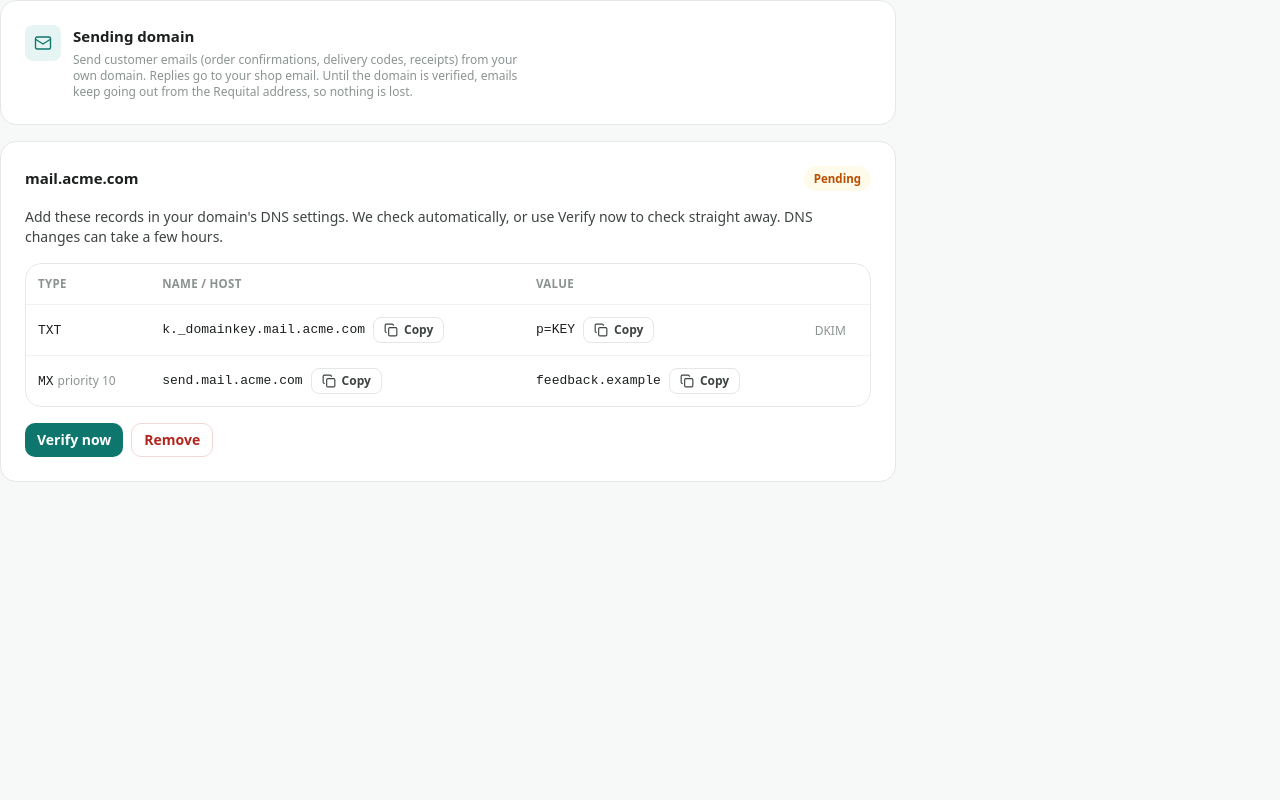
Test: Sending domain settings page › verify now reloads and removal returns to the empty form
Click the button "Verify now": (74, 440) left=25, top=423, right=123, bottom=457
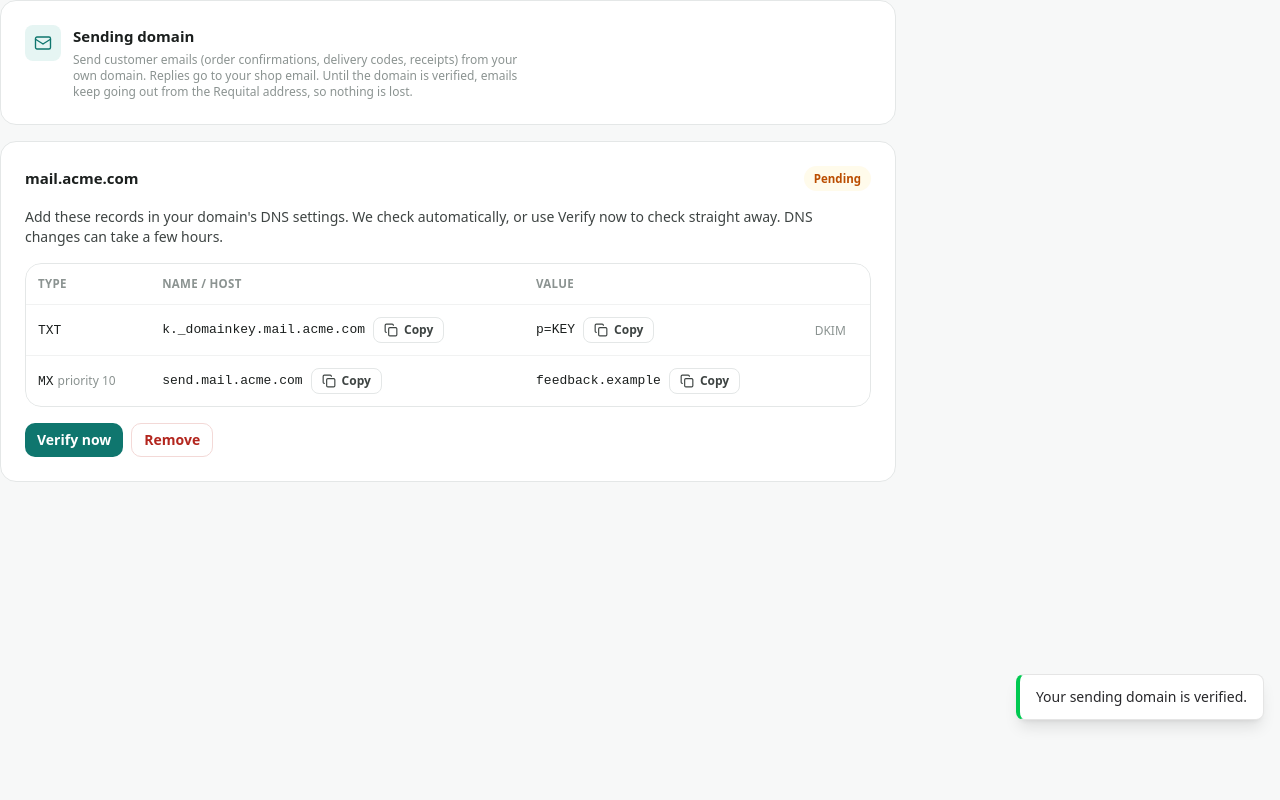
Click the button "Remove": (172, 440) left=131, top=423, right=213, bottom=457
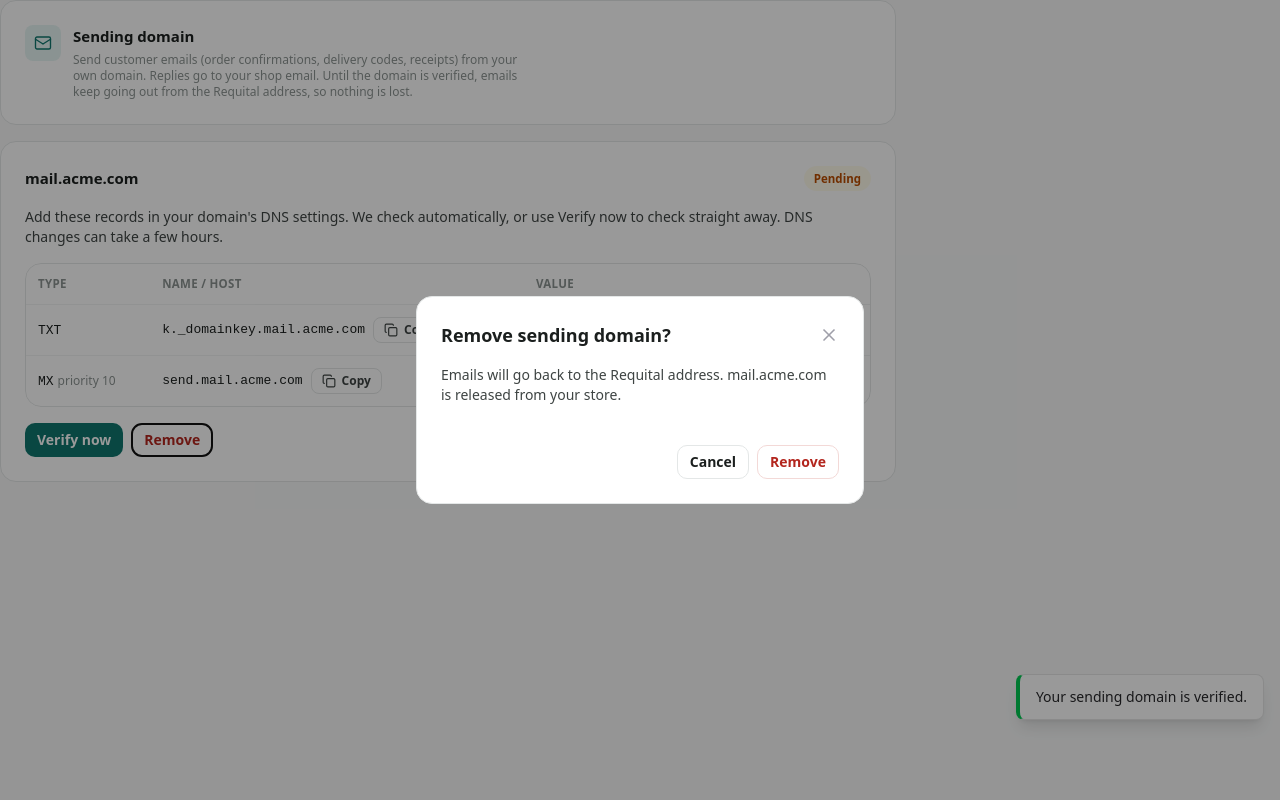
Click the button "Remove": (798, 462) left=757, top=445, right=839, bottom=479
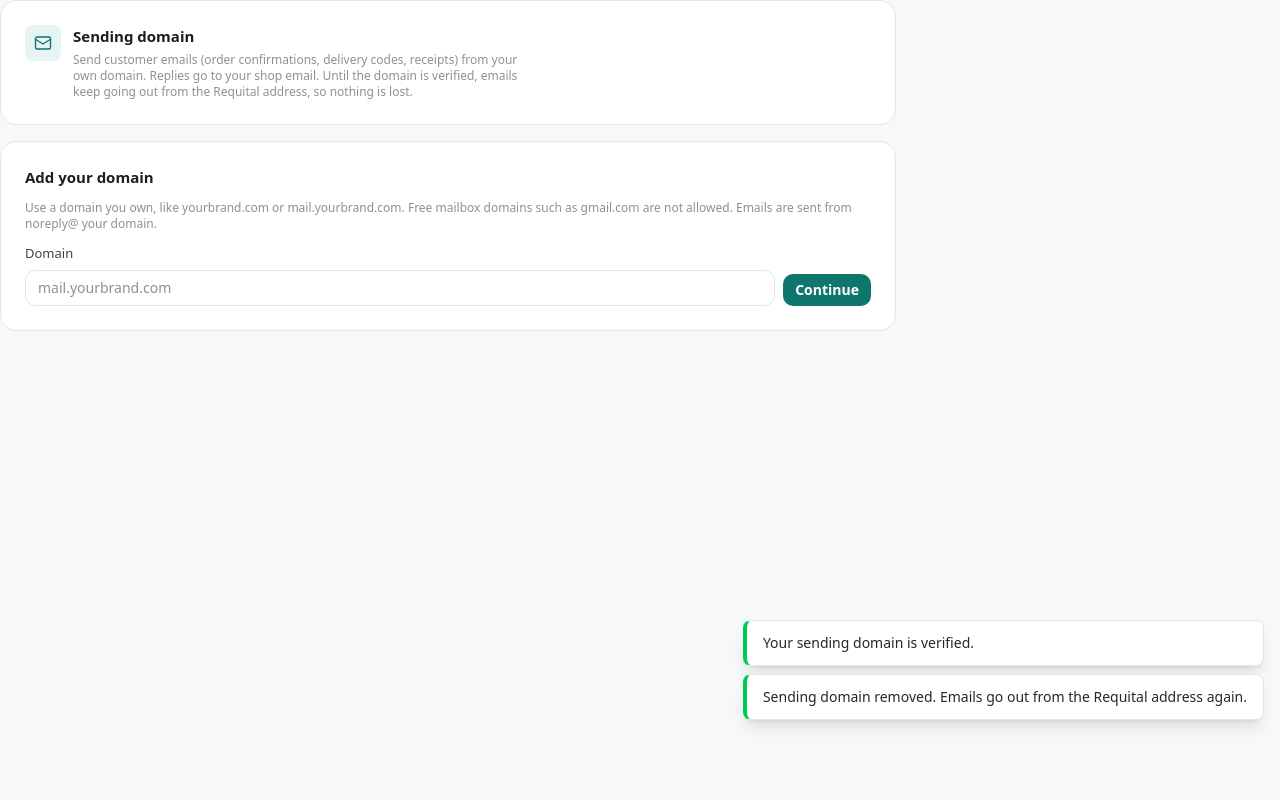
Result: the field labelled "Domain" is shown at left=25, top=270, right=775, bottom=306
